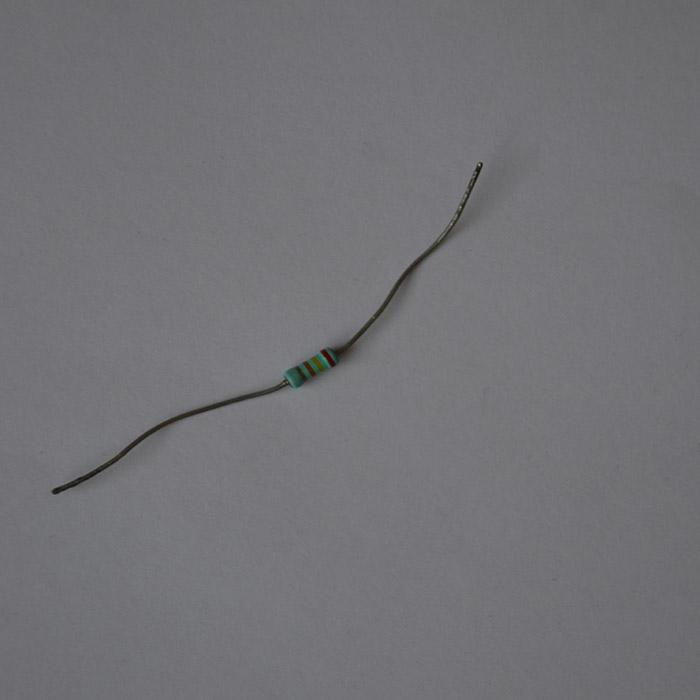resistor: (281, 346, 339, 388)
